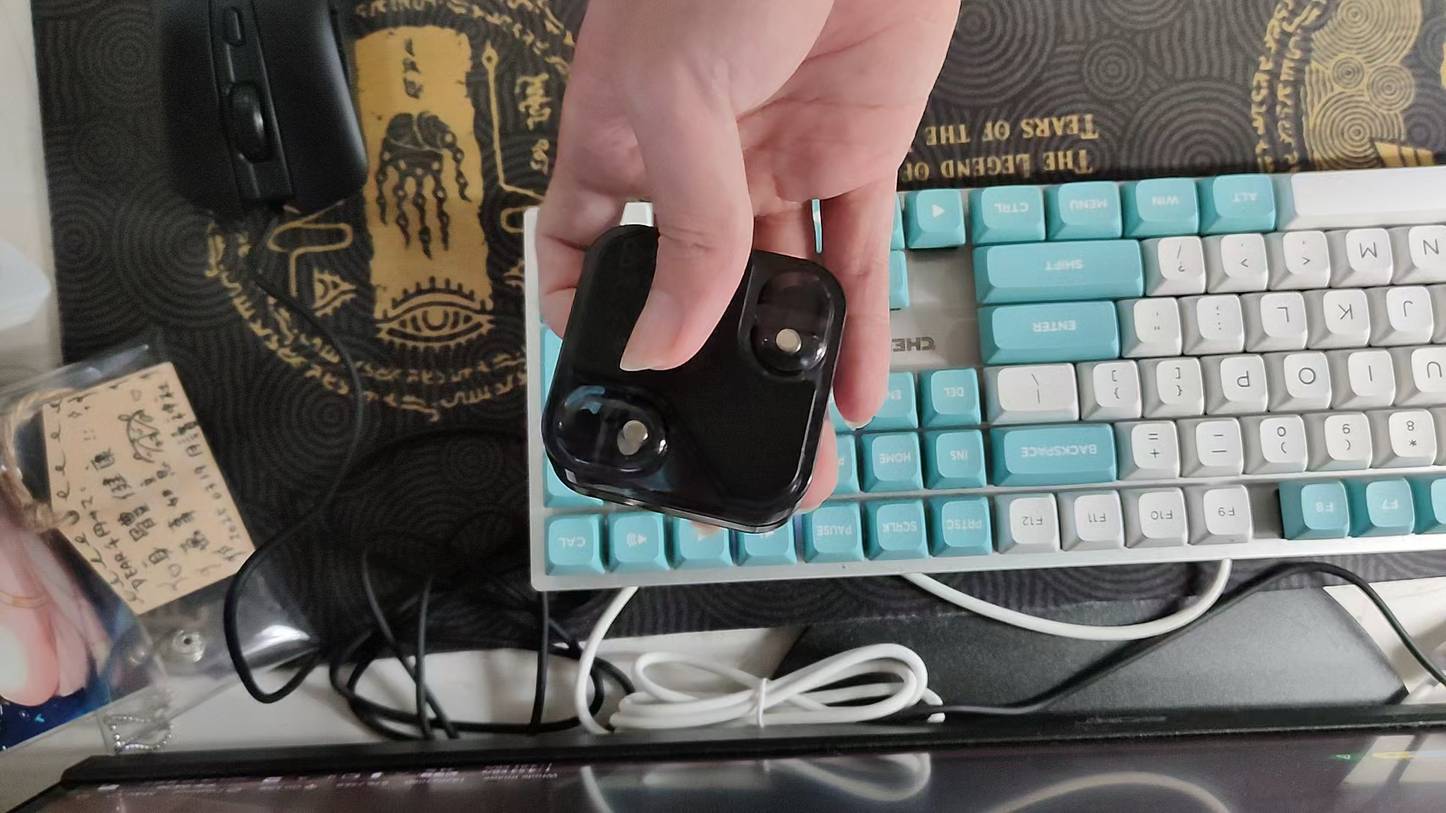Wireless_earphone: (542, 225, 848, 531)
